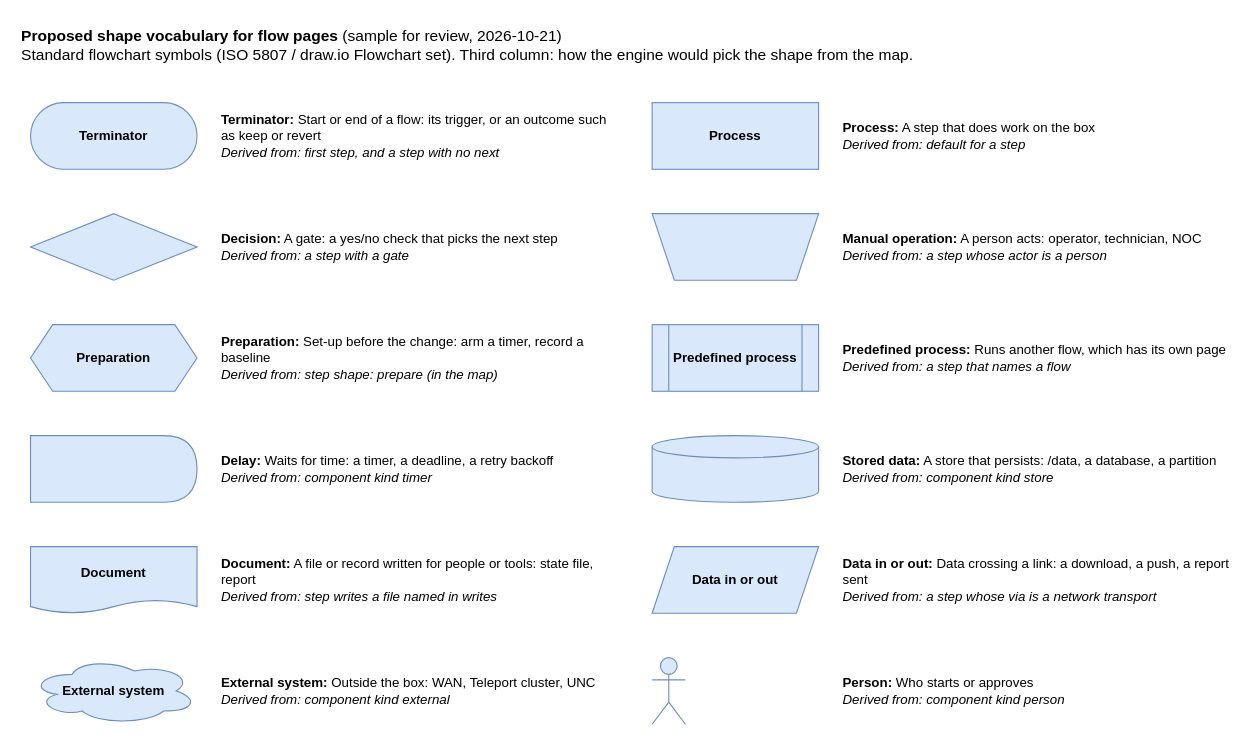
Some shapes in this 1259 by 744 pixel diagram are drawn without their labels. The shapes that lost their labels are listed below. From the top down, each one's centre as x and y in pixels, then its label:
At [113,246]: "Decision".
At [735,246]: "Manual operation".
At [113,468]: "Delay".
At [735,468]: "Stored data".
